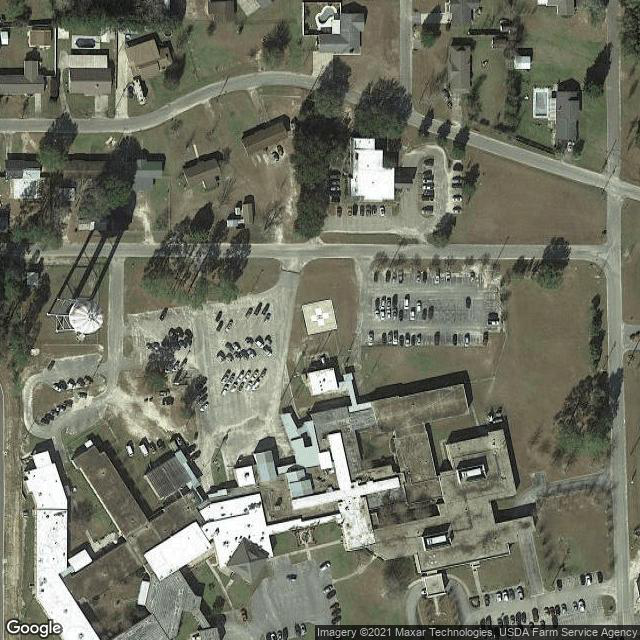Helipad: (298, 297, 339, 335)
